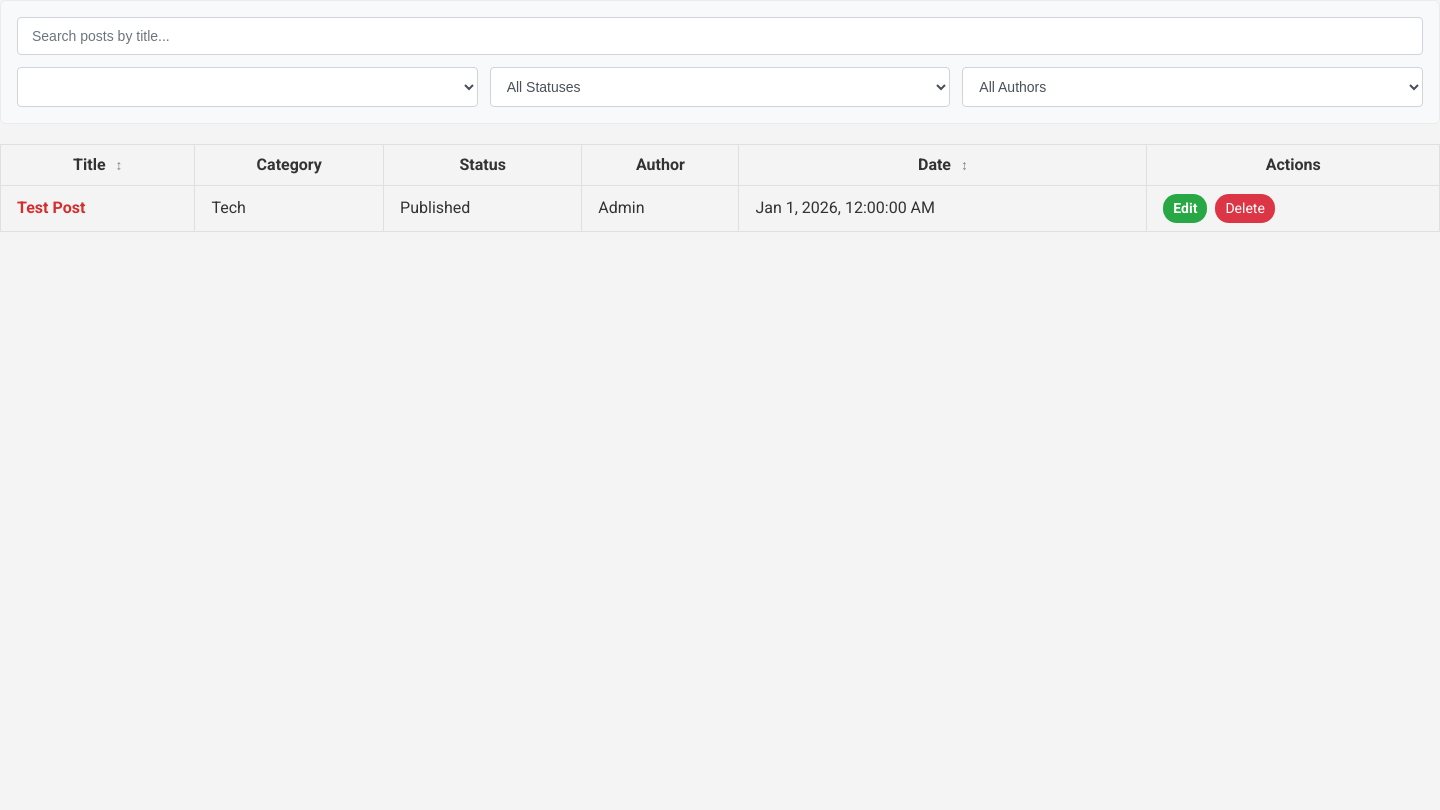
Test case: DashboardPageComponent › delete post modal › should open modal on Delete click without deleting
The width and height of the screenshot is (1440, 810).
Step 1. Click the button with class "delete-btn" → [1245, 208], box [1215, 194, 1275, 223]
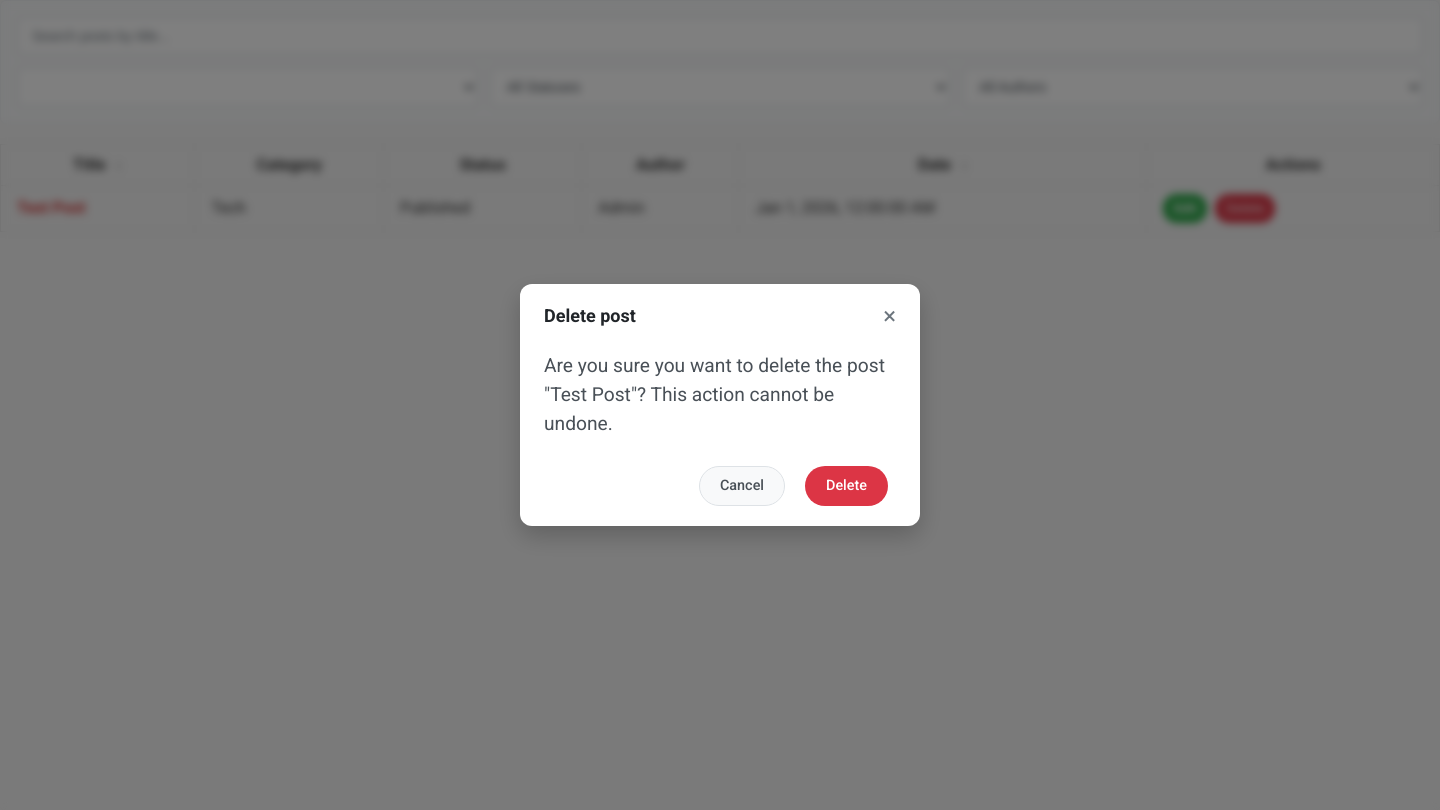
Check: the element that starts with "Delete post" is shown
